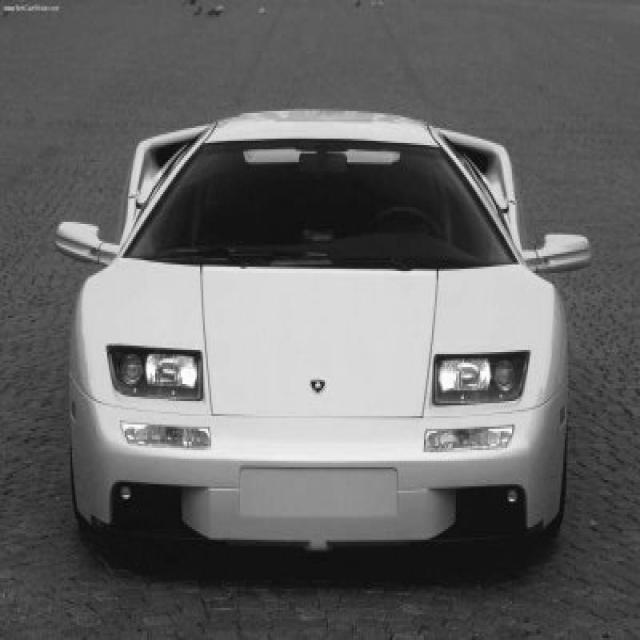car: (53, 105, 592, 554)
